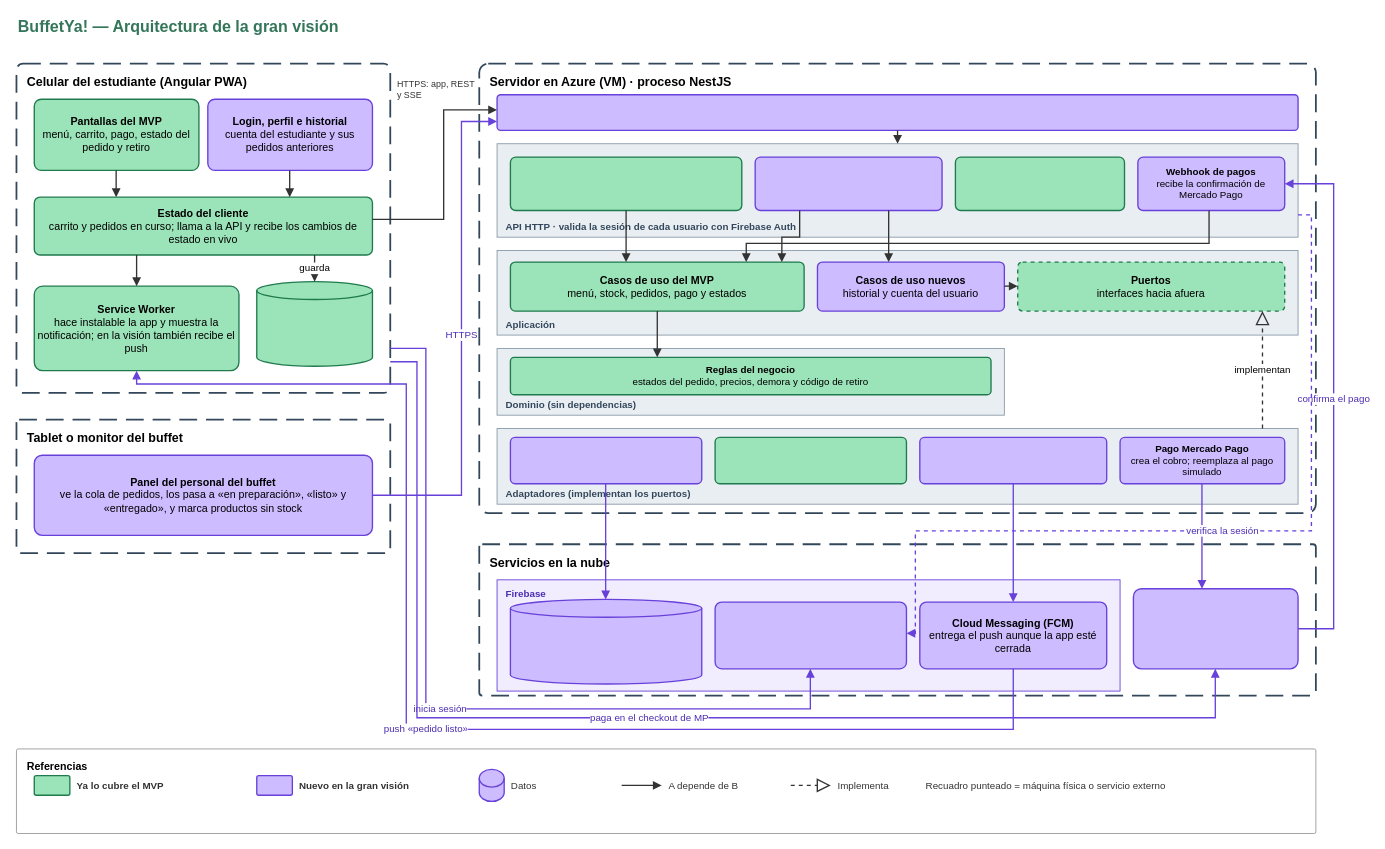
Some shapes in this 1385 by 849 pixel diagram are drawn without their labels. The centre of each missing label's shape, as x and y in pixels:
"API del panel del buffet cola de pedidos, estados y stock" belongs at [848,183].
"Archivos de la app entrega la PWA al celular" belongs at [1039,183].
"Eventos en vivo difunde cada cambio de estado (SSE)" belongs at [810,460].
"Firebase Auth cuentas con email y contraseña" belongs at [810,635].
"Firestore usuarios, pedidos, historial, menú y stock" belongs at [605,641].
"localStorage carrito y pedidos que sigue" belongs at [314,324].
"Mercado Pago checkout y cobro real" belongs at [1215,628].
"nginx HTTPS con certificado y proxy hacia NestJS" belongs at [897,112].
"Notificador push manda el aviso «listo» por FCM" belongs at [1013,460].
"Productos y pedidos /api/products y /api/orders (REST y avisos en vivo por SSE)" belongs at [625,183].
"Repositorio Firestore reemplaza a los archivos JSON" belongs at [605,460].
